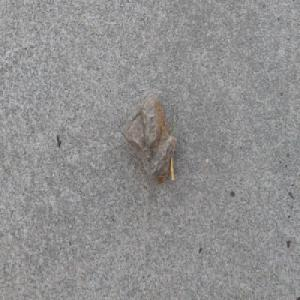Rock: (120, 88, 177, 186)
